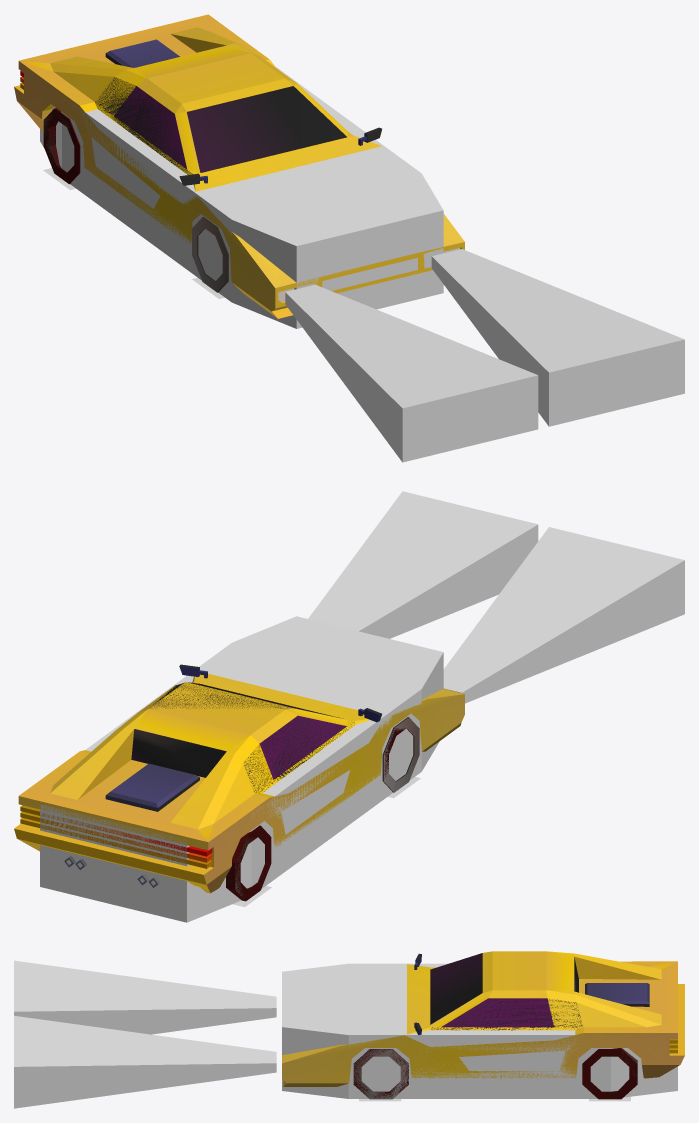
The model's file is Eleganza.fbx.
3 renders of one model, top to bottom at view 1: azimuth 30°, elevation 25°; view 2: azimuth 150°, elevation 25°; view 3: azimuth 270°, elevation 25°, orthographic. The views are drawn at different scales.
Parts seen in each view (by area): view 1: eleganza_gr, eleganza, eleganza_cldr, eleganza_dead, eleganza_lckd, eleganza_frontwheels; view 2: eleganza, eleganza_gr, eleganza_cldr, eleganza_dead, eleganza_lckd, eleganza_frontwheels; view 3: eleganza, eleganza_gr, eleganza_cldr, eleganza_lckd, eleganza_dead, eleganza_frontwheels, TireSmokeMesh.
Part boxes in pixels (x1=…): eleganza_gr: x1=285, y1=249, x2=684, y2=462; eleganza: x1=14, y1=14, x2=464, y2=318; eleganza_cldr: x1=40, y1=66, x2=443, y2=328; eleganza_dead: x1=95, y1=77, x2=190, y2=174; eleganza_lckd: x1=43, y1=108, x2=80, y2=184; eleganza_frontwheels: x1=192, y1=217, x2=228, y2=292; eleganza: x1=14, y1=664, x2=464, y2=893; eleganza_gr: x1=308, y1=491, x2=684, y2=703; eleganza_cldr: x1=40, y1=616, x2=443, y2=922; eleganza_dead: x1=149, y1=682, x2=354, y2=793; eleganza_lckd: x1=226, y1=728, x2=413, y2=901; eleganza_frontwheels: x1=382, y1=717, x2=419, y2=792; eleganza: x1=282, y1=951, x2=684, y2=1086; eleganza_gr: x1=14, y1=960, x2=276, y2=1108; eleganza_cldr: x1=282, y1=963, x2=677, y2=1098; eleganza_lckd: x1=353, y1=1048, x2=637, y2=1099; eleganza_dead: x1=431, y1=998, x2=582, y2=1030; eleganza_frontwheels: x1=353, y1=1049, x2=408, y2=1099; TireSmokeMesh: x1=359, y1=1096, x2=630, y2=1101.
Bounding box in the file's own units: 5.27 × 2.14 × 14.05.
